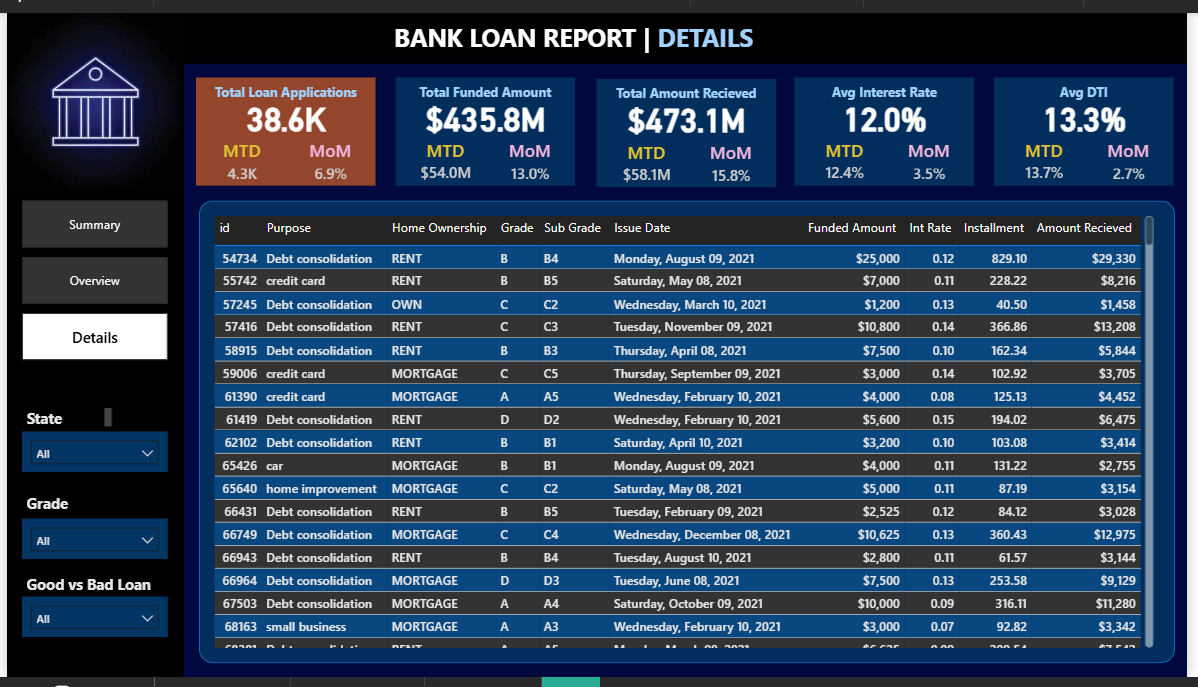

What the dashboard file says about the page in this screenshot:
{"tool":"powerbi","page":{"name":"Details","canvas":[1280,720],"ordinal":2},"visuals":[{"type":"shape","box":[421.7,69.9,194.8,117.2],"z":0,"group":"g2"},{"type":"shape","box":[854,69.9,194.8,117.2],"z":0,"group":"g4"},{"type":"shape","box":[1070.9,69.9,194.8,117.2],"z":0,"group":"g5"},{"type":"shape","box":[205.2,70.7,194.8,117.2],"z":0,"group":"g1"},{"type":"shape","box":[638.7,71.6,194.8,117.2],"z":0,"group":"g3"},{"type":"shape","box":[208.3,203.3,1058.3,501.7],"z":0},{"type":"shape","box":[0,0,1279.3,55],"z":1000},{"type":"shape","box":[0,55,191.7,665],"z":2000},{"type":"textbox","box":[415.5,3.4,448.3,48.3],"z":3000},{"type":"card","fields":{"Values":["bank_loan_data.Total Funded Amount"]},"box":[421.7,87.1,194.8,48.3],"z":3000,"group":"g2"},{"type":"card","fields":{"Values":["bank_loan_data.Avg Intrest Rate"]},"box":[854,87.1,194.8,48.3],"z":3000,"group":"g4"},{"type":"card","fields":{"Values":["bank_loan_data.Avg DTI"]},"box":[1070.9,87.1,194.8,48.3],"z":3000,"group":"g5"},{"type":"card","fields":{"Values":["bank_loan_data.Total Loan Applications"]},"box":[205.2,87.9,194.8,48.3],"z":3000,"group":"g1"},{"type":"card","fields":{"Values":["bank_loan_data.Total Amount Recieved"]},"box":[638.7,88.8,194.8,48.3],"z":3000,"group":"g3"},{"type":"group","id":"g1","title":"Group 1","box":[205.2,70.7,194.8,117.2],"z":4000},{"type":"group","id":"g2","title":"Group 1","box":[421.7,69.9,195.2,118.7],"z":5000},{"type":"textbox","box":[421.7,69.9,194.8,34.5],"z":5000,"group":"g2"},{"type":"textbox","box":[854,69.9,194.8,34.5],"z":5000,"group":"g4"},{"type":"textbox","box":[1070.9,69.9,194.8,34.5],"z":5000,"group":"g5"},{"type":"textbox","box":[205.2,70.7,194.8,34.5],"z":5000,"group":"g1"},{"type":"textbox","box":[638.7,71.6,194.8,34.5],"z":5000,"group":"g3"},{"type":"group","id":"g3","title":"Group 1","box":[638.7,71.6,193.6,118.7],"z":6000},{"type":"card","title":"MTD","fields":{"Values":["bank_loan_data.MTD Funded Amount"]},"box":[439.8,136,72.4,51.7],"z":6000,"group":"g2"},{"type":"card","title":"MTD","fields":{"Values":["bank_loan_data.MTD Avg Int Rate"]},"box":[872.1,136,72.4,51.7],"z":6000,"group":"g4"},{"type":"card","title":"MTD","fields":{"Values":["bank_loan_data.MTD Avg DTI"]},"box":[1089,136,72.4,51.7],"z":6000,"group":"g5"},{"type":"card","title":"MTD","fields":{"Values":["bank_loan_data.MTD Total Amount Recieved"]},"box":[656.8,137.7,72.4,51.7],"z":6000,"group":"g3"},{"type":"card","title":"MTD","fields":{"Values":["bank_loan_data.MTD Loan Applications"]},"box":[222.4,137.9,63.8,50],"z":6000,"group":"g1"},{"type":"group","id":"g4","title":"Group 1","box":[854,69.9,195.2,117.1],"z":7000},{"type":"card","title":"MoM","fields":{"Values":["bank_loan_data.MoM Total Funded Amount"]},"box":[535.5,137.1,63.8,50],"z":7000,"group":"g2"},{"type":"card","title":"MoM","fields":{"Values":["bank_loan_data.MoM Avg Int Rate"]},"box":[967.8,137.1,63.8,50],"z":7000,"group":"g4"},{"type":"card","title":"MoM","fields":{"Values":["bank_loan_data.MoM Avg DTI"]},"box":[1184.7,137.1,63.8,50],"z":7000,"group":"g5"},{"type":"card","title":"MoM","fields":{"Values":["bank_loan_data.MoM Loan Application"]},"box":[319,137.9,63.8,50],"z":7000,"group":"g1"},{"type":"card","title":"MoM","fields":{"Values":["bank_loan_data.MoM Total Amount Recieved"]},"box":[752.5,138.8,63.8,50],"z":7000,"group":"g3"},{"type":"group","id":"g5","title":"Group 1","box":[1070.9,69.9,195.2,117.1],"z":8000},{"type":"slicer","fields":{"Values":["bank_loan_data.address_state"]},"box":[16.3,453.8,157.8,43.9],"z":9000},{"type":"textbox","box":[16.3,422.9,102.5,30.9],"z":10000},{"type":"slicer","fields":{"Values":["bank_loan_data.grade"]},"box":[16.3,548.1,157.8,43.9],"z":11000},{"type":"textbox","box":[16.3,515.6,102.5,32.5],"z":12000},{"type":"slicer","fields":{"Values":["bank_loan_data.Good vs Bad Loan"]},"box":[16.3,632.7,157.8,43.9],"z":13000},{"type":"textbox","box":[16.7,603.3,158.3,36.7],"z":14000},{"type":"tableEx","fields":{"Values":["bank_loan_data.id","bank_loan_data.purpose","bank_loan_data.home_ownership","bank_loan_data.grade","bank_loan_data.sub_grade","bank_loan_data.issue_date","bank_loan_data.Total Funded Amount","Sum(bank_loan_data.int_rate)","Sum(bank_loan_data.installment)","bank_loan_data.Total Amount Recieved"]},"box":[220,215,1028.3,478.3],"z":17000},{"type":"image","box":[0,0,191.7,190],"z":18000},{"type":"pageNavigator","box":[16.7,203.3,158.3,173.3],"z":18001}]}

Visuals, with their boxes in screenshot pixels (x1, y1, x2, y2), scaled from the page's 1280x720 canvas onto the 1198x687 screenshot:
shape: 395/67/577/179
shape: 799/67/982/179
shape: 1002/67/1185/179
shape: 192/67/374/179
shape: 598/68/780/180
shape: 195/194/1185/673
shape: 0/0/1197/52
shape: 0/52/179/686
textbox: 389/3/808/49
card - bank_loan_data.Total Funded Amount: 395/83/577/129
card - bank_loan_data.Avg Intrest Rate: 799/83/982/129
card - bank_loan_data.Avg DTI: 1002/83/1185/129
card - bank_loan_data.Total Loan Applications: 192/84/374/130
card - bank_loan_data.Total Amount Recieved: 598/85/780/131
"Group 1" group: 192/67/374/179
"Group 1" group: 395/67/577/180
textbox: 395/67/577/100
textbox: 799/67/982/100
textbox: 1002/67/1185/100
textbox: 192/67/374/100
textbox: 598/68/780/101
"Group 1" group: 598/68/779/182
"MTD" card: 412/130/479/179
"MTD" card: 816/130/884/179
"MTD" card: 1019/130/1087/179
"MTD" card: 615/131/682/181
"MTD" card: 208/132/268/179
"Group 1" group: 799/67/982/178
"MoM" card: 501/131/561/179
"MoM" card: 906/131/966/179
"MoM" card: 1109/131/1169/179
"MoM" card: 299/132/358/179
"MoM" card: 704/132/764/180
"Group 1" group: 1002/67/1185/178
slicer - bank_loan_data.address_state: 15/433/163/475
textbox: 15/404/111/433
slicer - bank_loan_data.grade: 15/523/163/565
textbox: 15/492/111/523
slicer - bank_loan_data.Good vs Bad Loan: 15/604/163/646
textbox: 16/576/164/611
tableEx - bank_loan_data.id x bank_loan_data.purpose: 206/205/1168/662
image: 0/0/179/181
pageNavigator: 16/194/164/359
